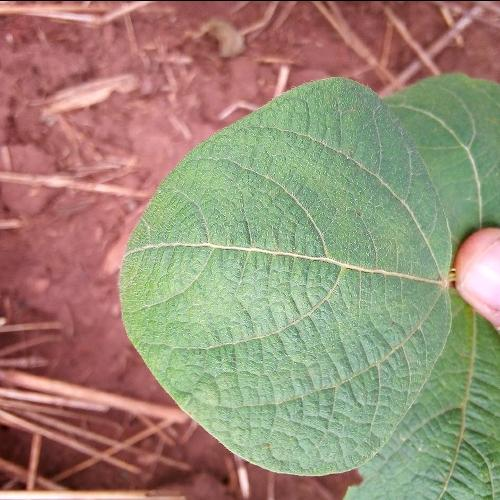hawar: (135, 84, 440, 444)
